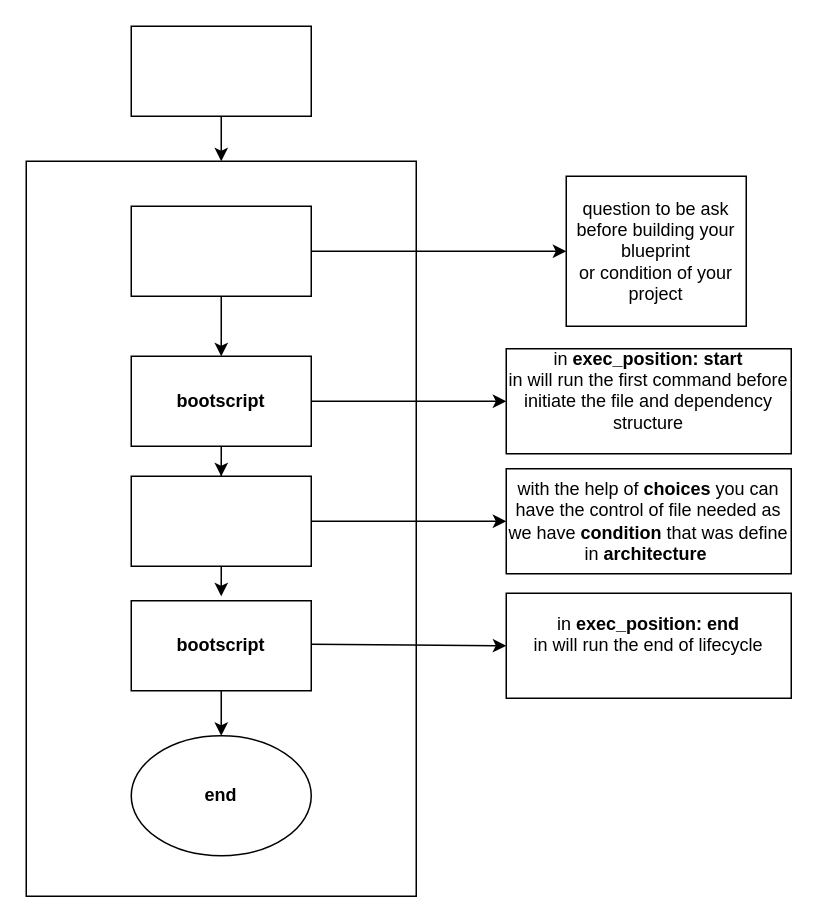
This 818x923 diagram has some shape labels left out. The shapes that lost their labels are listed below. From the top down, each one's centre as x and y in pixels, then its label:
At pixel 220 70: "architecture.yaml".
At pixel 220 250: "choices".
At pixel 220 520: "files".
